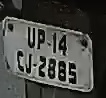1: (51, 32, 58, 54)
2: (39, 56, 46, 79)
4: (58, 34, 70, 58)
5: (67, 61, 78, 86)
8: (57, 61, 68, 83), (47, 56, 56, 82)
C: (15, 49, 26, 76)
J: (24, 52, 34, 76)
P: (36, 28, 47, 51)
U: (23, 25, 37, 49)
